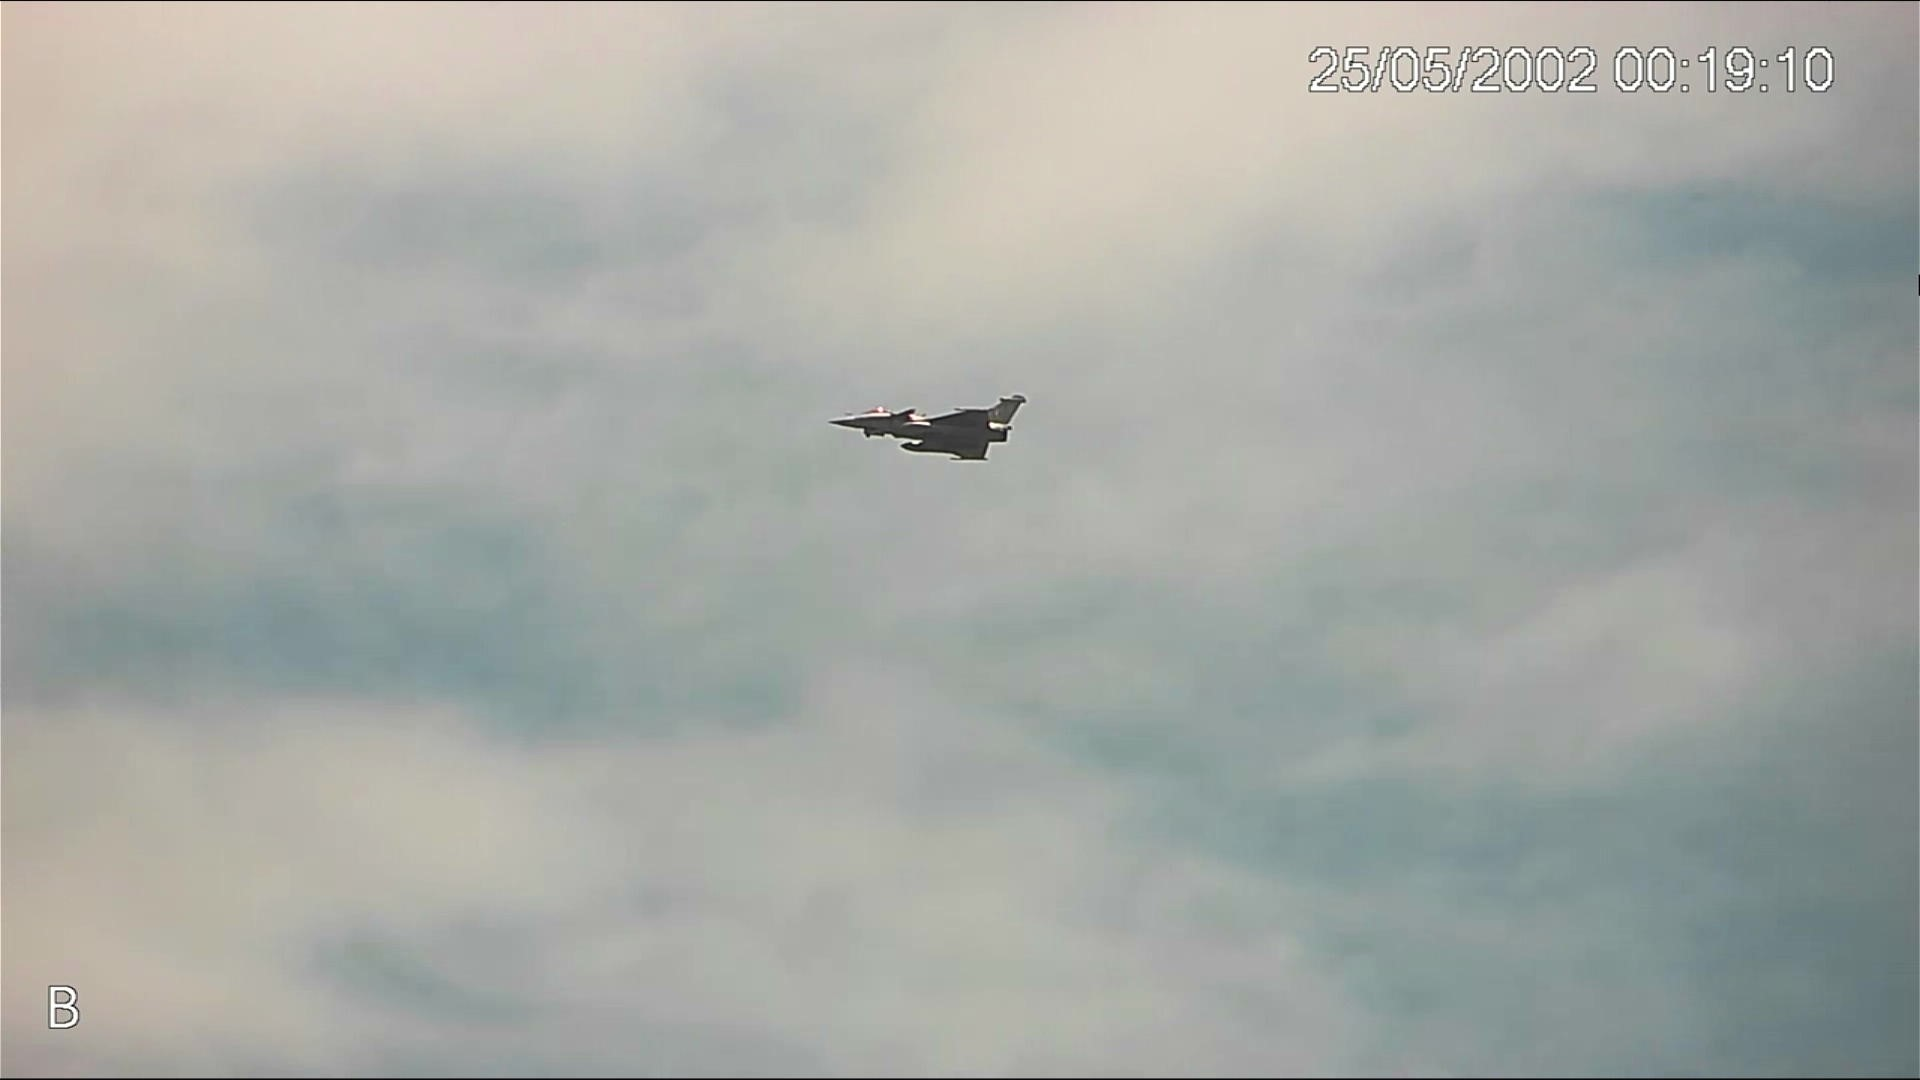SU_30: (829, 392, 1036, 460)
